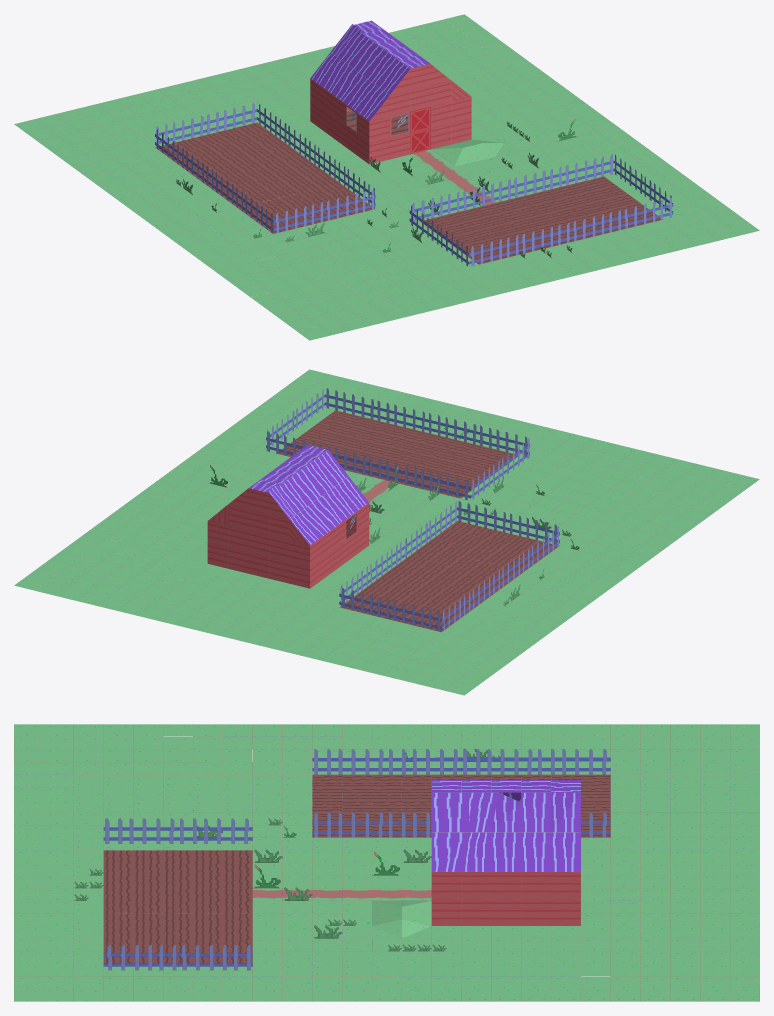
Rendered from farm.obj.
3 views of the same model, one above another, from view 1: azimuth 30°, elevation 25°; view 2: azimuth 150°, elevation 25°; view 3: azimuth 270°, elevation 25° (orthographic). The views are drawn at different scales.
Parts seen in each view (by area): view 1: Default; view 2: Default; view 3: Default.
Part boxes in pixels (left/top/right/bottom): Default: left=14, top=14, right=759, bottom=340; Default: left=14, top=369, right=759, bottom=695; Default: left=14, top=724, right=759, bottom=1001.
Size of the model in its own units: 22.01 by 4.06 by 25.01.
1 material, 1 textured.
